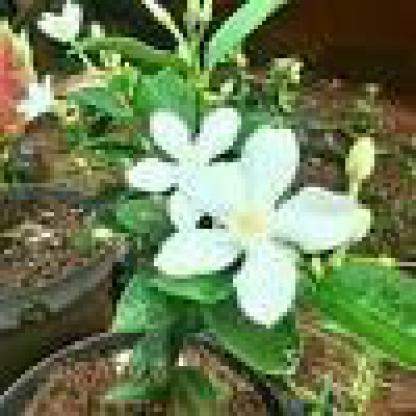Melati: (118, 97, 342, 313), (22, 5, 101, 47), (9, 72, 55, 130)
